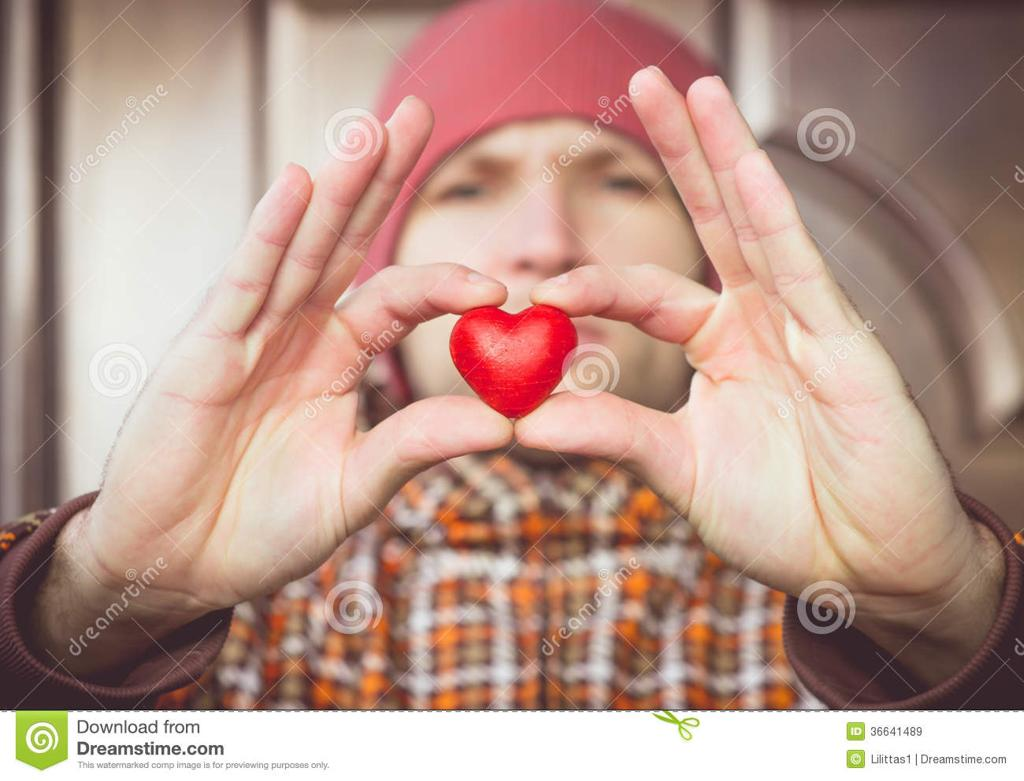face: (396, 36, 700, 442)
